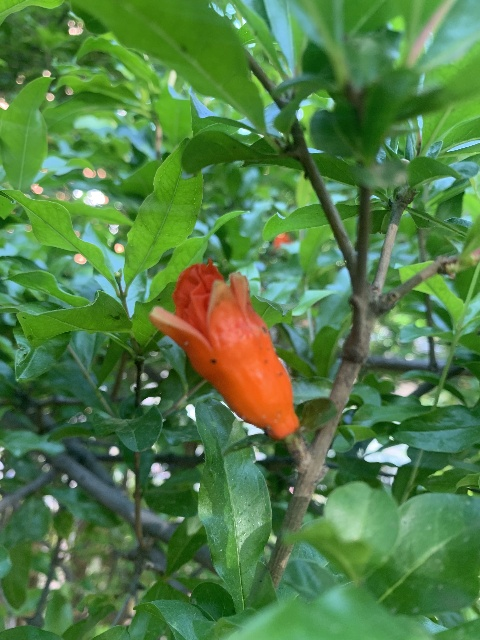flower: (149, 257, 296, 437)
